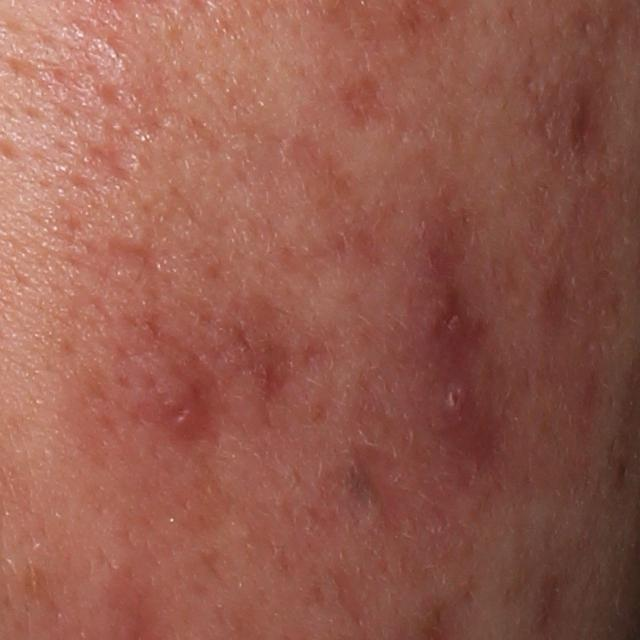atrophic_scar: (83, 83, 158, 190), (333, 72, 397, 137)
papule: (122, 342, 228, 450), (225, 309, 299, 388), (414, 373, 479, 438), (416, 290, 461, 345), (104, 247, 155, 293)
